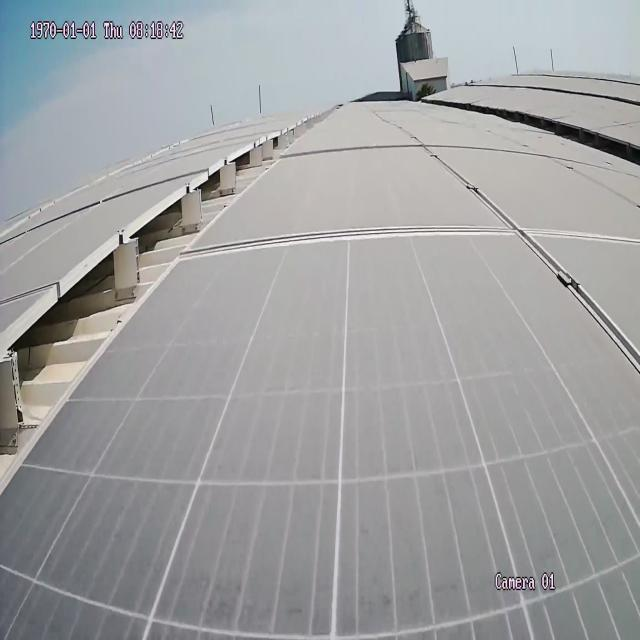interior panel: (203, 148, 637, 370)
outher panel: (1, 116, 314, 500), (456, 102, 640, 168)
